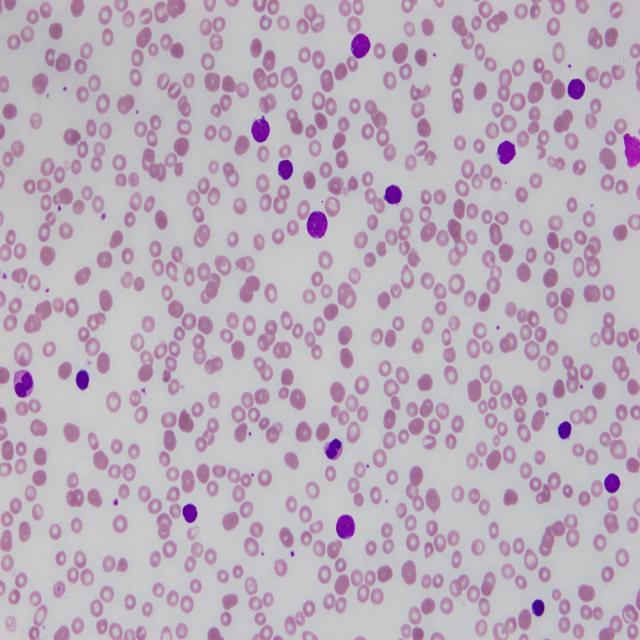cell: (306, 212, 328, 238), (251, 117, 270, 142), (351, 33, 370, 58), (498, 140, 516, 165), (336, 515, 355, 538), (568, 78, 585, 100), (384, 185, 402, 205), (182, 503, 198, 523), (604, 473, 620, 493), (278, 160, 292, 180), (531, 598, 545, 617), (76, 370, 89, 390), (558, 422, 571, 440)
